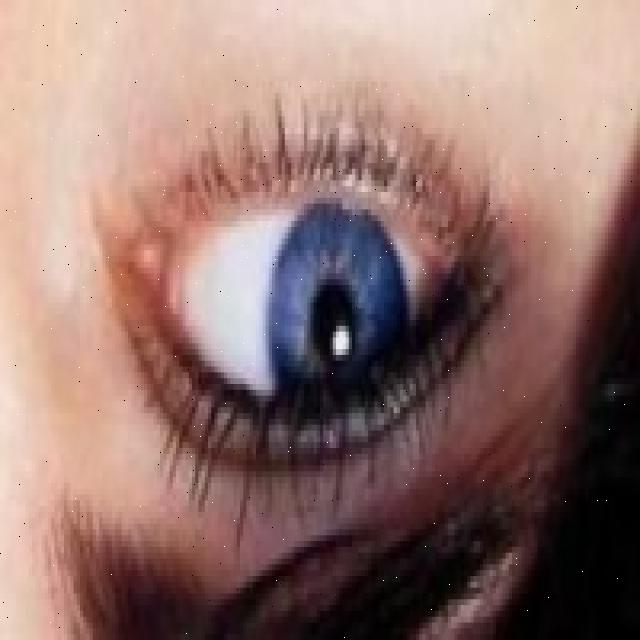Normal: (266, 187, 411, 456)
